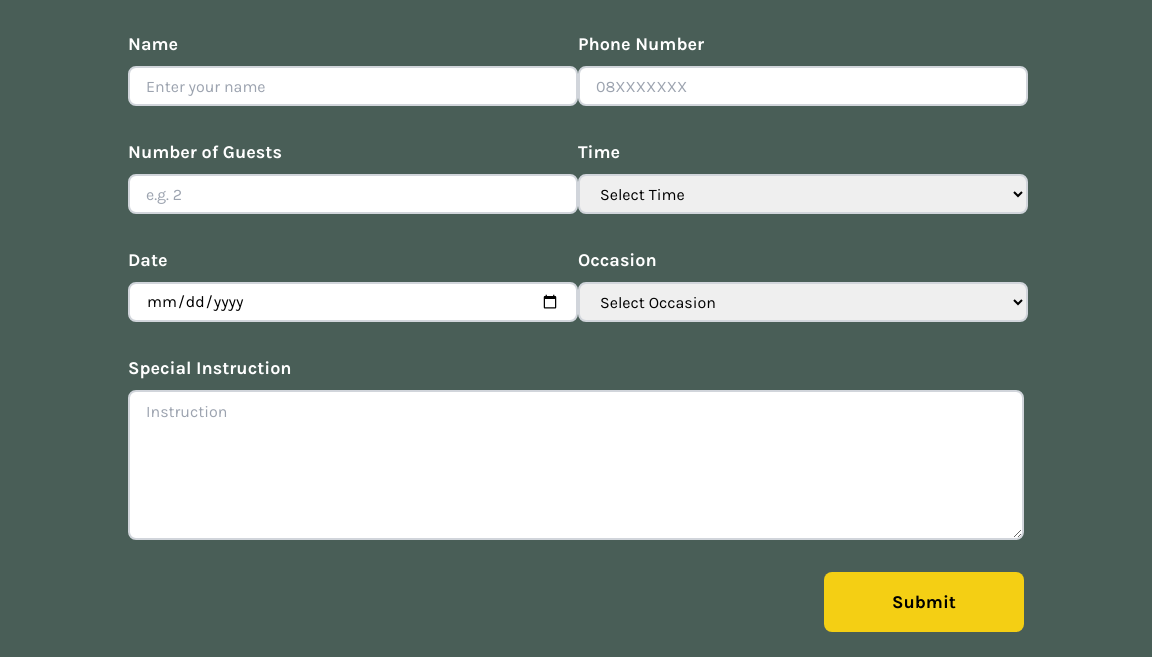
Test: Reservation › shoud display required
(page scrolled)
Click the button "Submit". click: point(924, 602)
box: 824,572 -> 1024,632
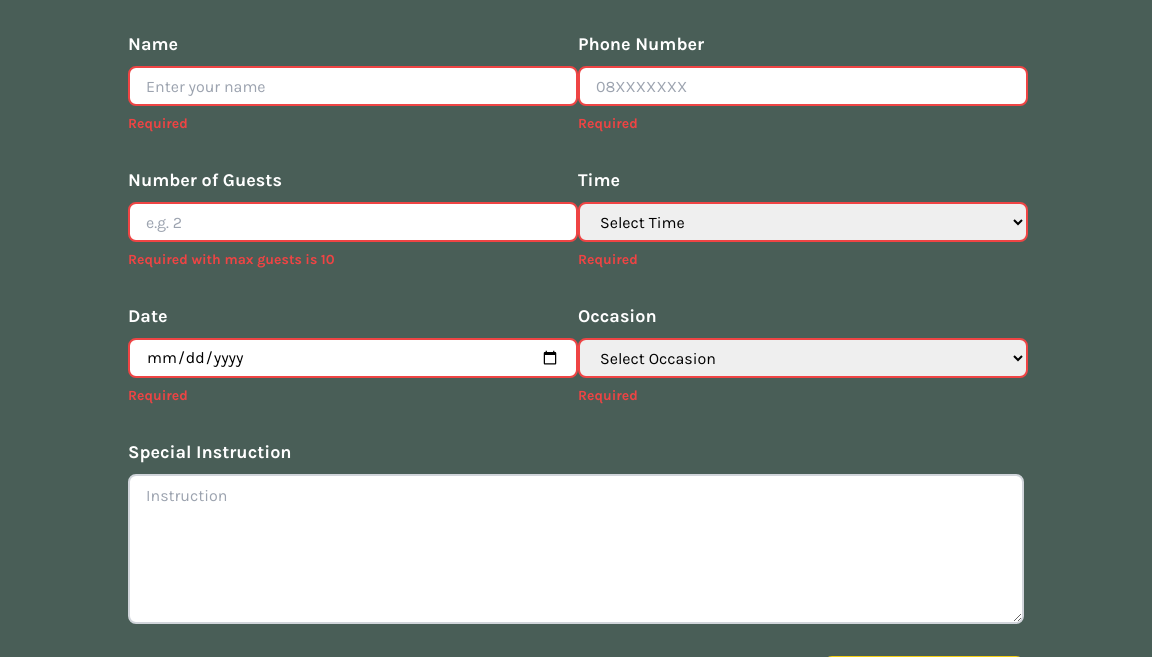
Result: the text "Required" is shown 5 times at 128,115 -> 188,132; 578,115 -> 638,132; 578,251 -> 638,268; 128,387 -> 188,404; 578,387 -> 638,404
Result: the text "Required with max guests is 10" is shown once at 128,251 -> 335,268
